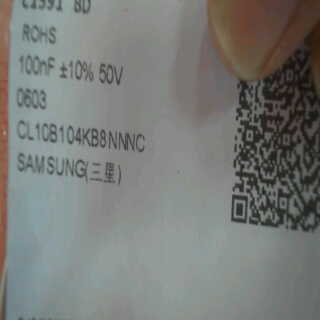100nF: (15, 52, 57, 83)
